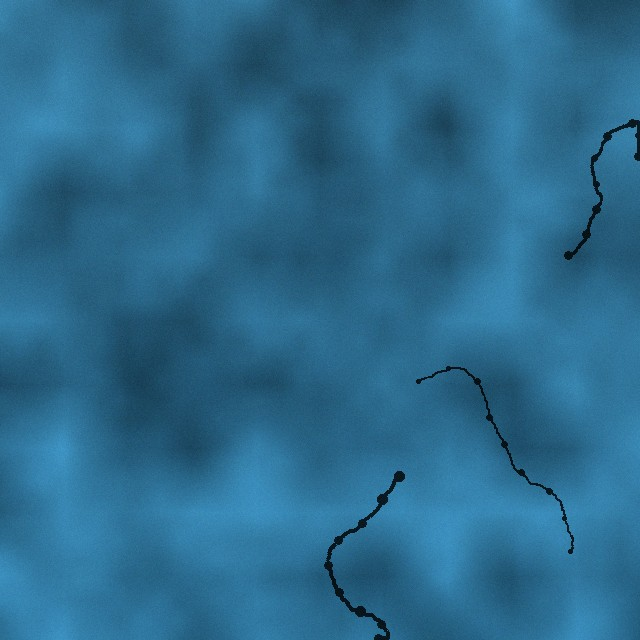crack: (414, 363, 576, 557), (321, 470, 405, 639), (563, 116, 639, 260)
